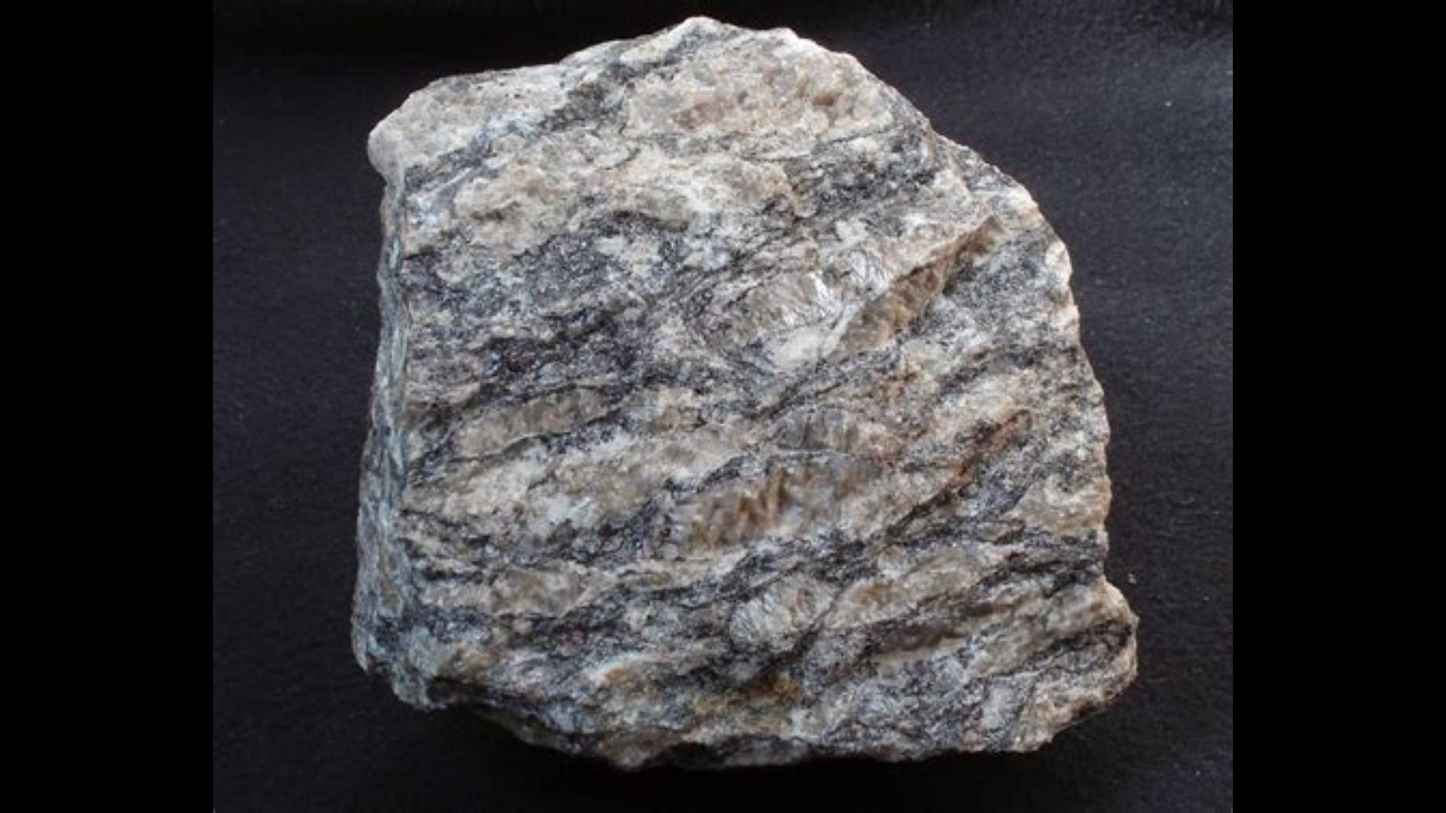rock: (353, 19, 1134, 766)
